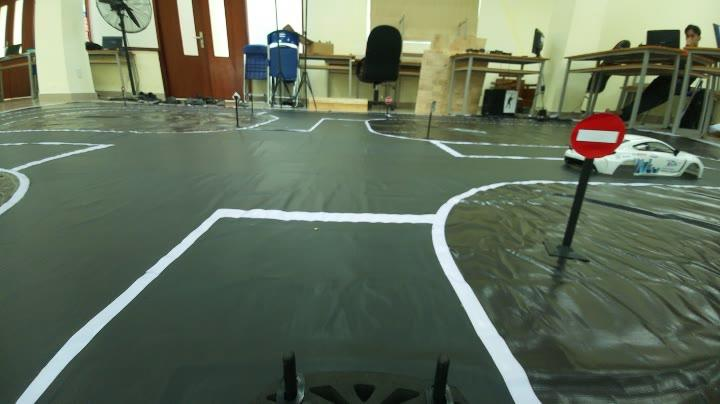no_entry: (571, 114, 628, 160)
